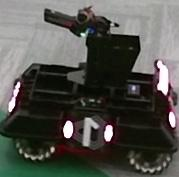armor_1: (65, 120, 114, 142)
light: (156, 59, 169, 96)
